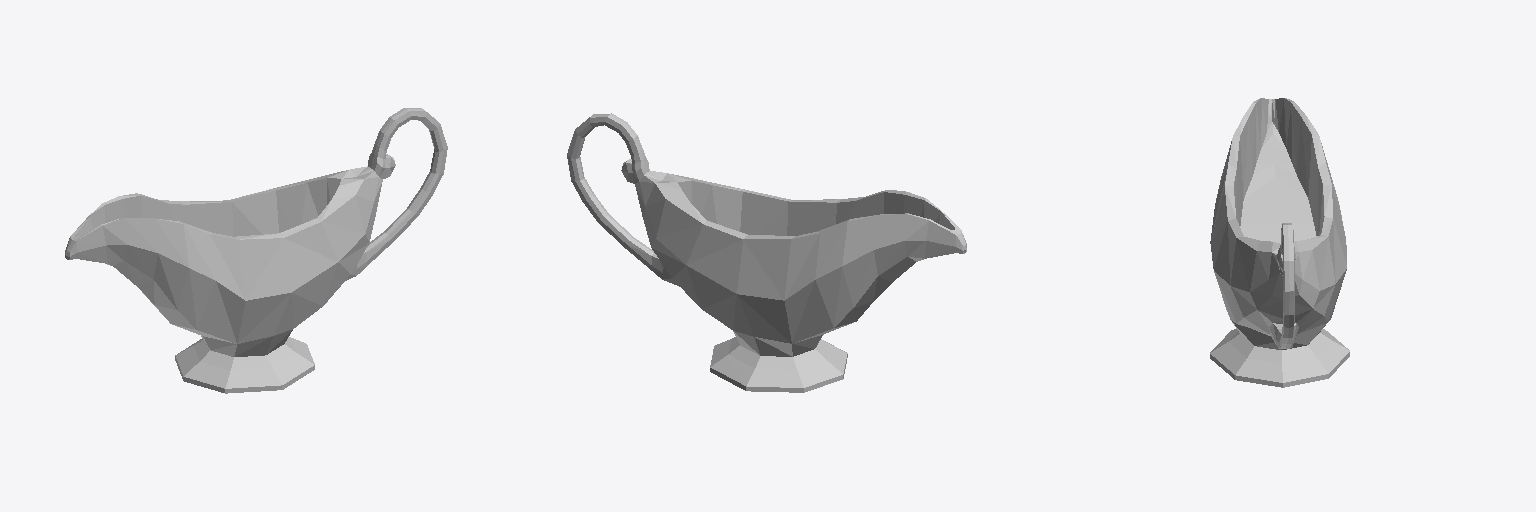
The model's file is Gravy_Banquet_geo.obj.
3 views of the same model, side by side, from view 1: azimuth 30°, elevation 25°; view 2: azimuth 150°, elevation 25°; view 3: azimuth 270°, elevation 25° (orthographic).
Parts seen in each view (by area): view 1: REDO:GravyBoat; view 2: REDO:GravyBoat; view 3: REDO:GravyBoat.
Boxes of the visible parts, x1=… form: REDO:GravyBoat: x1=65, y1=108, x2=447, y2=393; REDO:GravyBoat: x1=567, y1=113, x2=966, y2=392; REDO:GravyBoat: x1=1210, y1=98, x2=1349, y2=387.
Size of the model in its own units: 4.9 by 2.56 by 1.54.